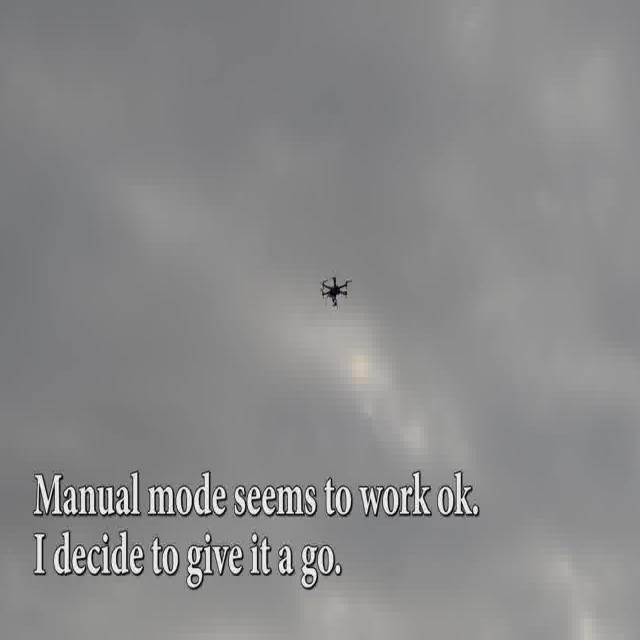Drone_FW: (319, 273, 352, 308)
